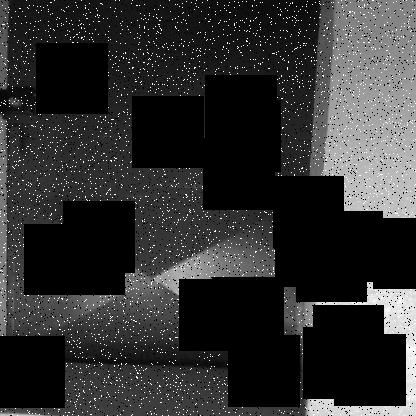Porte: (1, 1, 339, 415)
